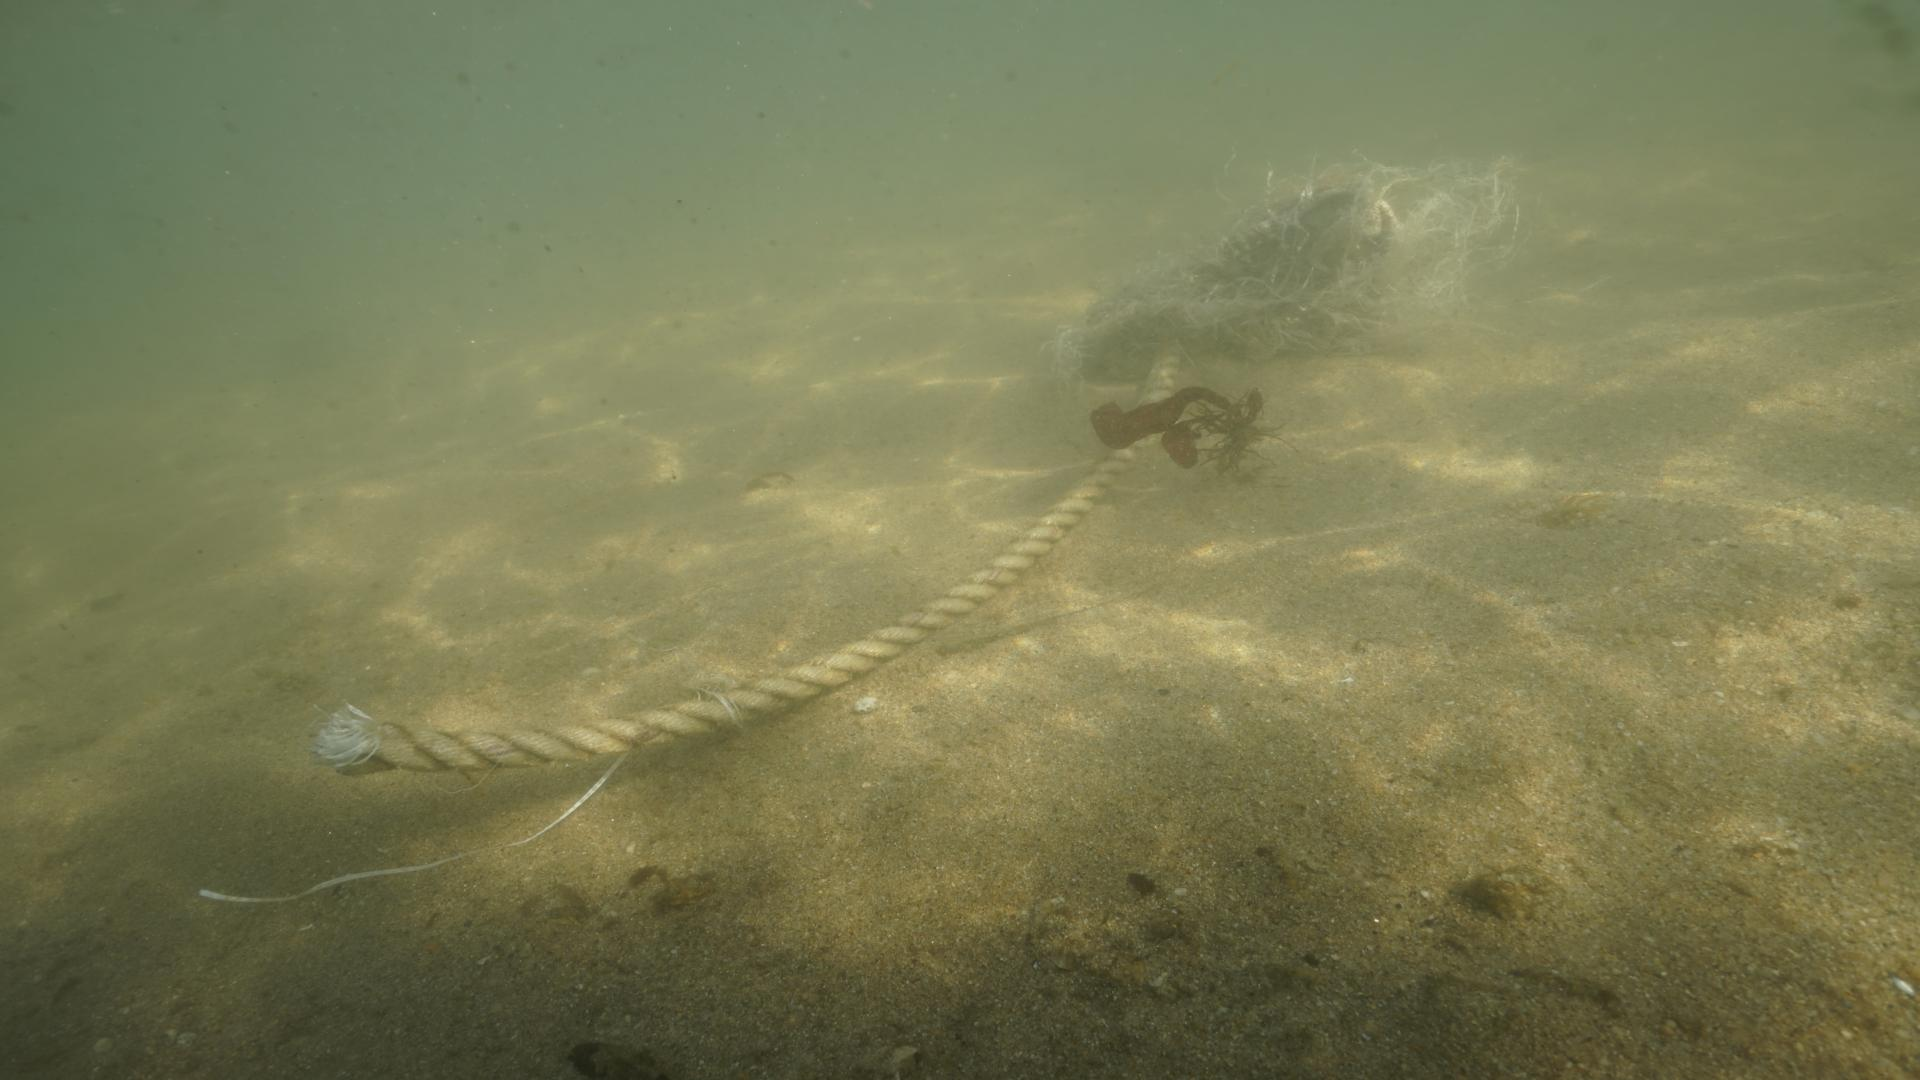rope: (359, 338, 1184, 779)
